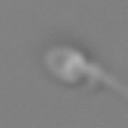abnormal: (83, 60, 128, 101)
